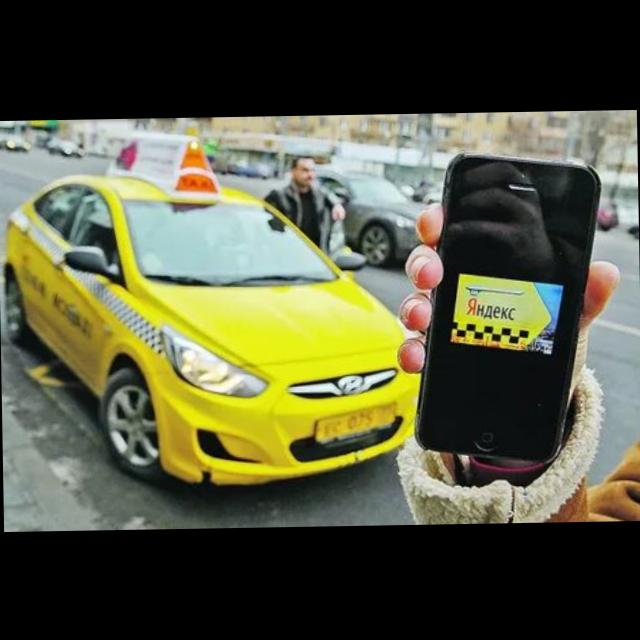taxi: (1, 125, 425, 491)
